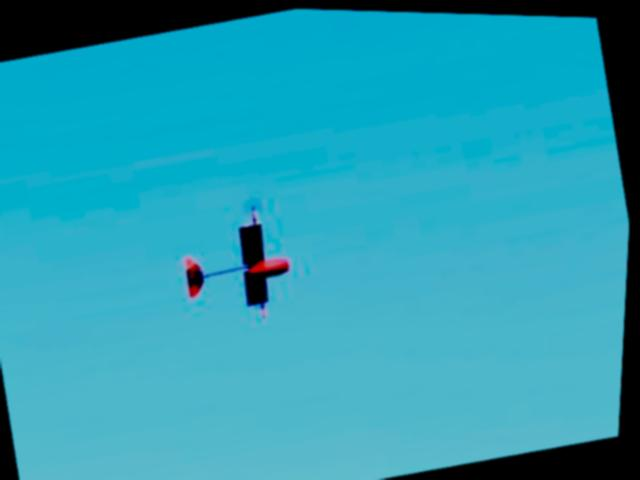uav: (163, 186, 314, 339)
